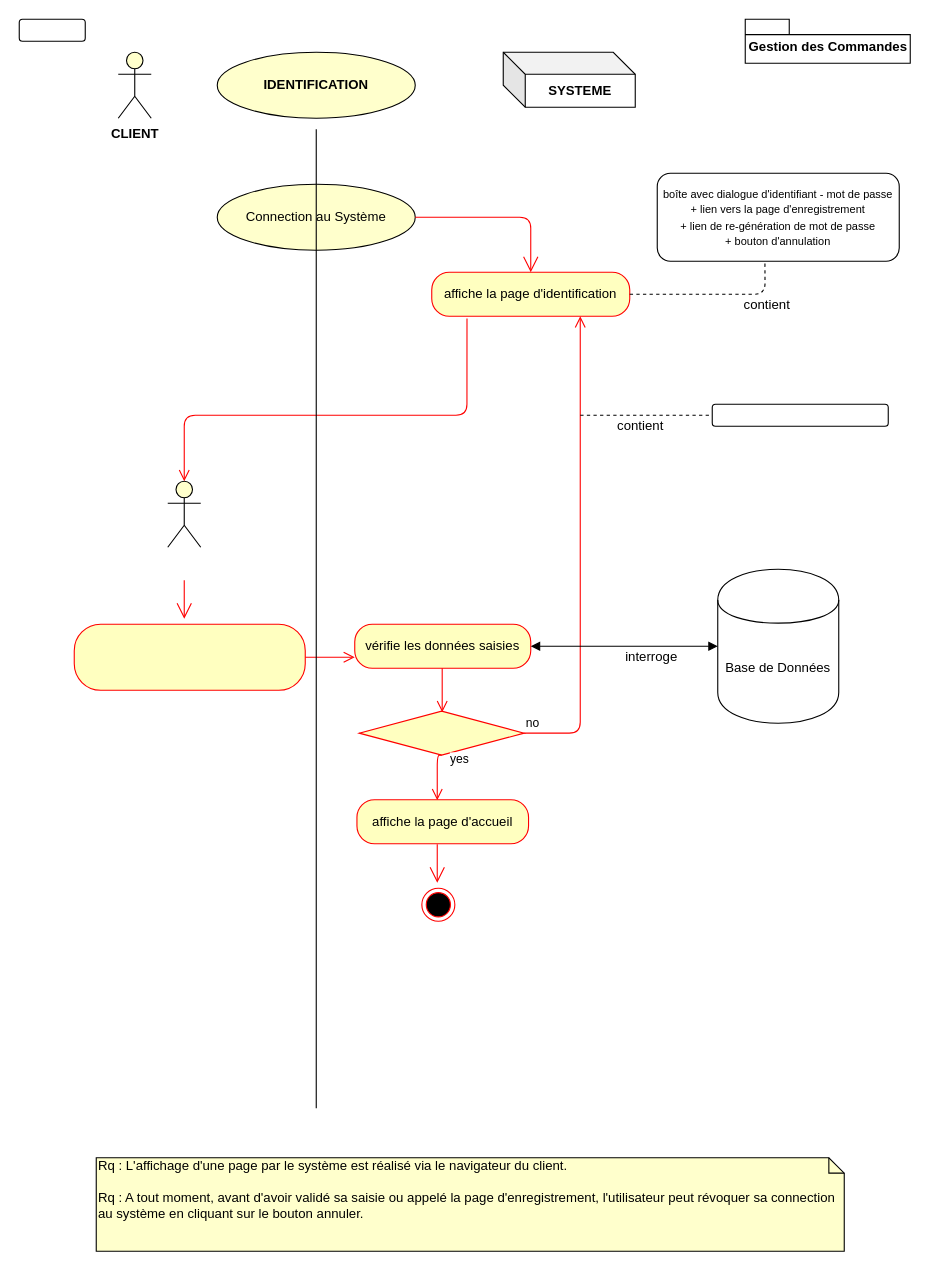
The diagram is 930 pixels wide and 1271 high, and some of its shapes have lost their labels. The box of each missing label's shape, as (x1, y1, x2, y2) in pixels:
données correctes: (358, 710, 524, 755)
message d'erreur de saisie: (711, 403, 888, 426)
OC'Pizza: (18, 18, 85, 41)
saisit ses identifiant & mot de passe puis clique sur le bouton de validation: (73, 623, 305, 690)
Thomas ou Kevin: (167, 480, 201, 547)
